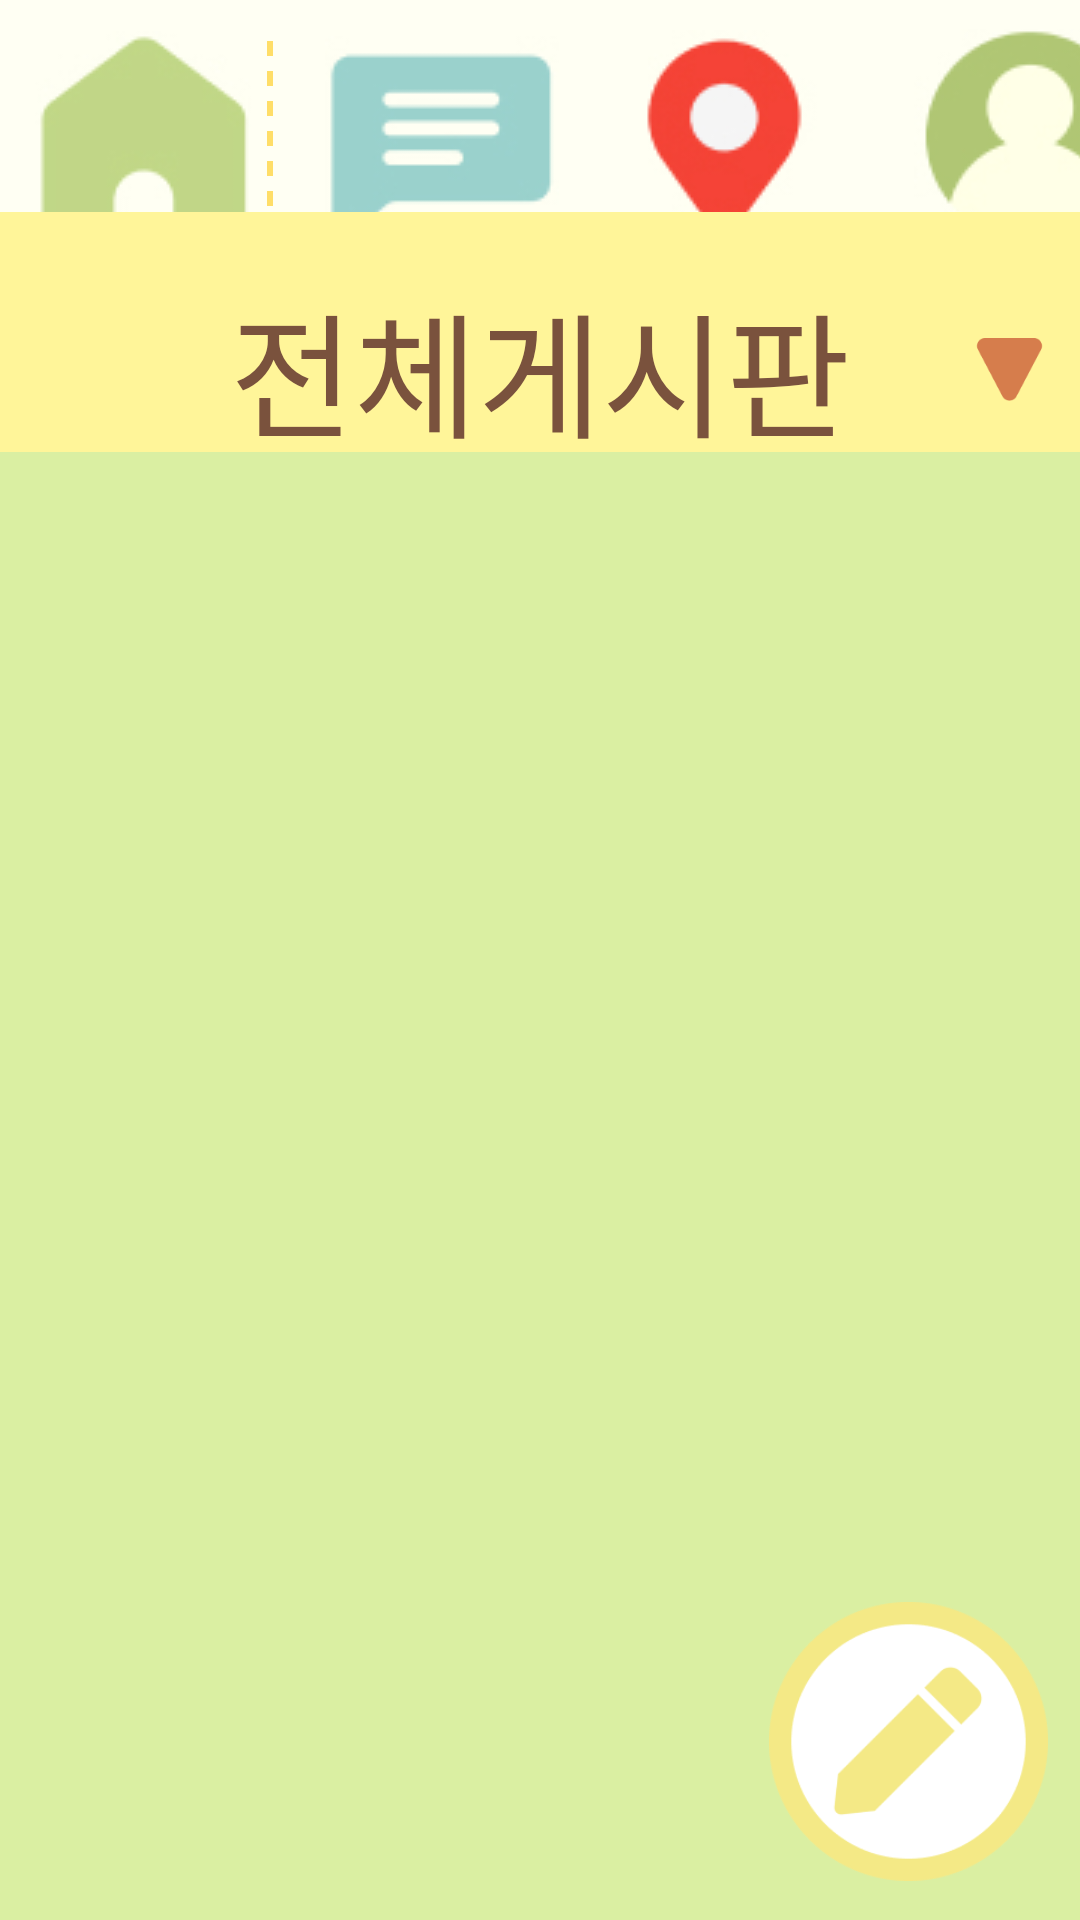

Named icons in this screenshot (1080px×1920px) and their centers, (x=x, y=y):
chat: (x=441, y=168)
home: (x=144, y=143)
location: (x=724, y=150)
writepost: (x=908, y=1741)
